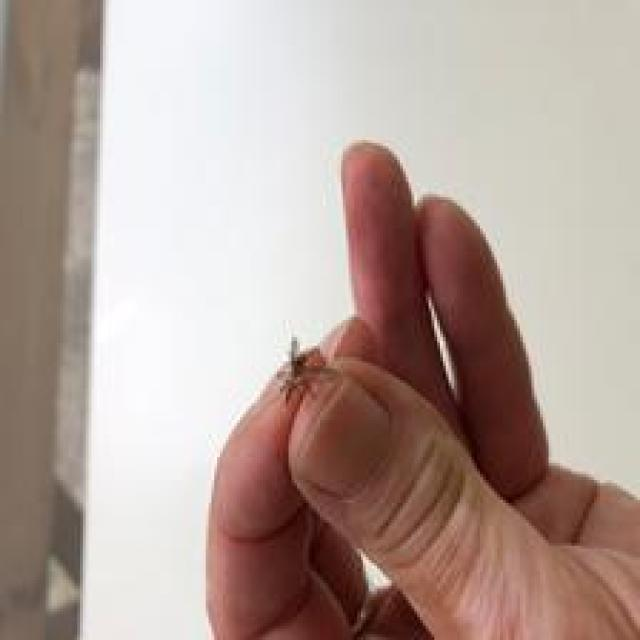Culex: (274, 334, 340, 406)
